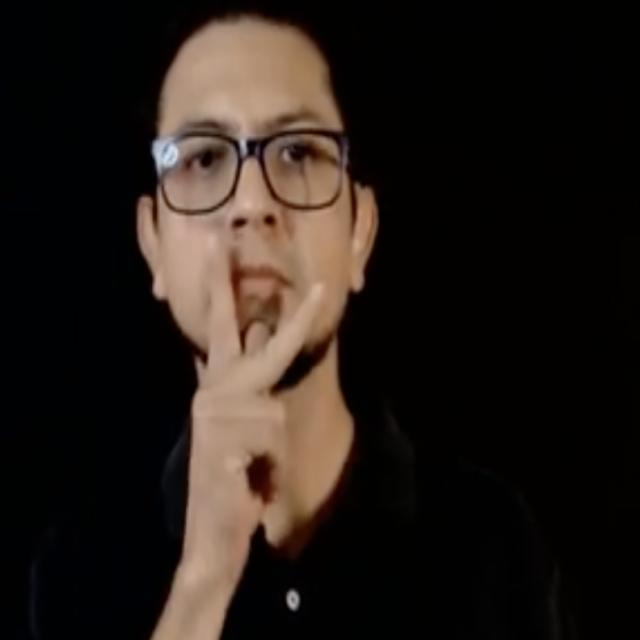PAPA: (182, 230, 327, 584)
